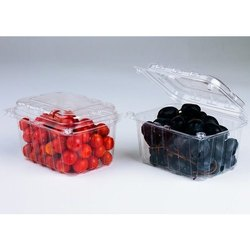PlasticBox: (2, 91, 133, 177)
